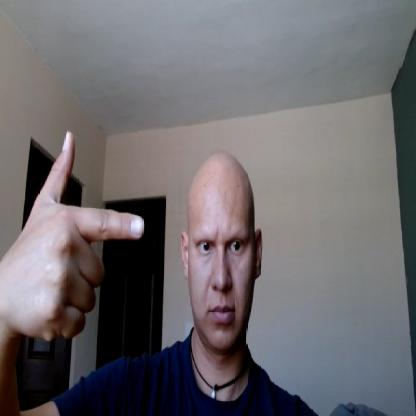G: (5, 126, 146, 342)
